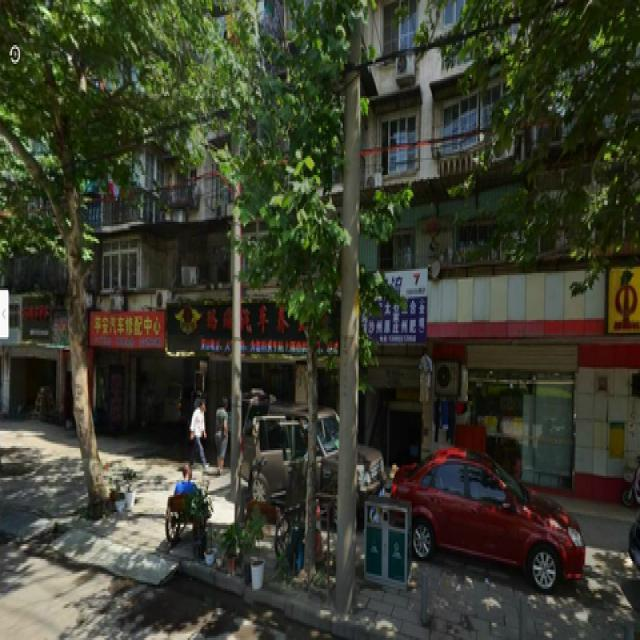meta: (250, 45, 350, 572)
